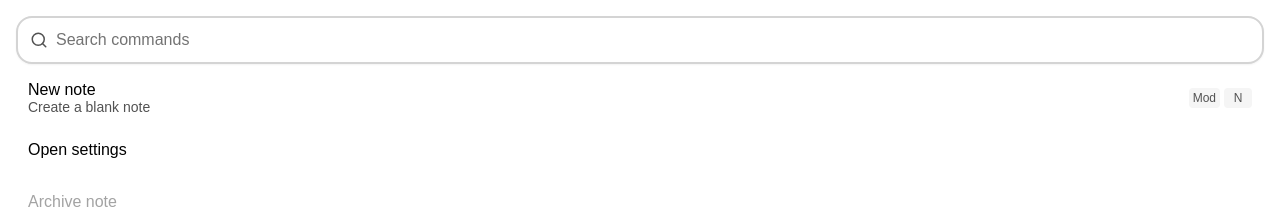
Test: Command filtering and navigation › filters items by label, description, and keywords with every term required
Step 1. Type "create blank" into the dropdown labelled "Search commands" → x=653, y=40, box 56,20 -> 1250,60
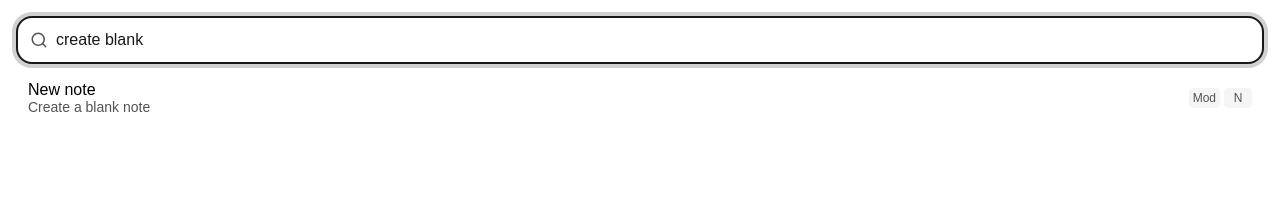
expect the option "New note Create a blank note Mod N" is shown: met, box 16,72 -> 1264,124
expect the option "Open settings" is gone: met
